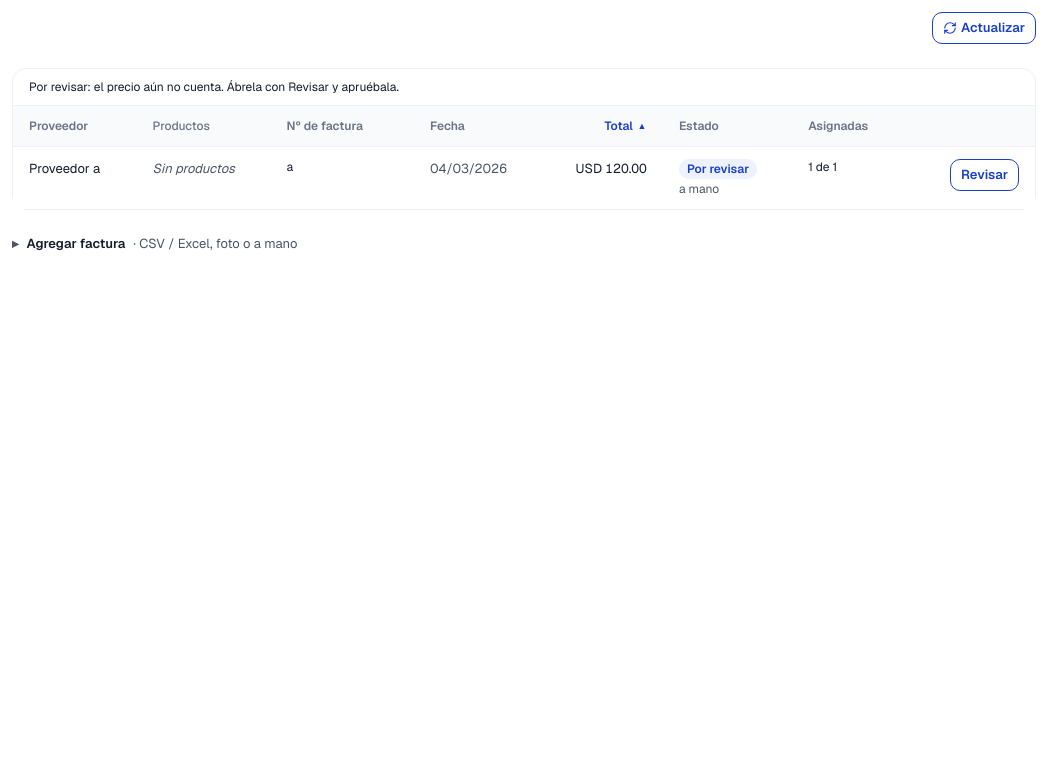
Test: Review panel › a real invoice still says «Publicar factura» and shows its Total
What coordinates should you click on to do the following:
click the button "Revisar"
I would click on:
 (985, 175)
Its box is [950, 159, 1019, 191].
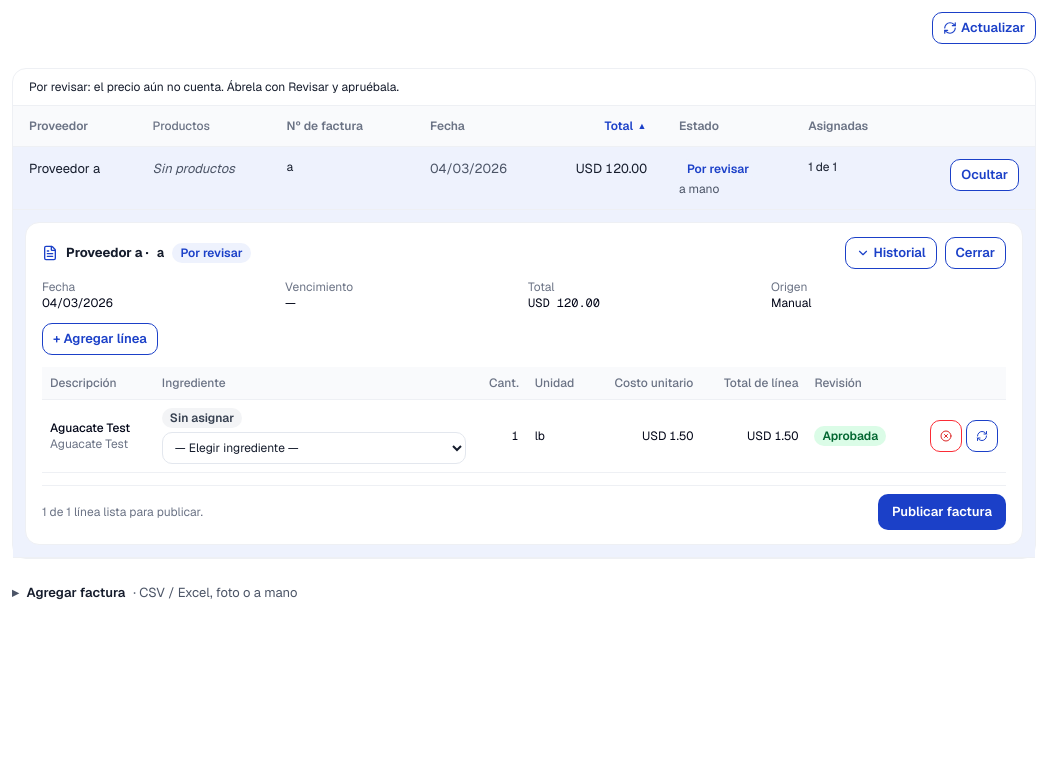
Now the button "Publicar factura" is shown, box [878, 494, 1006, 530]
Now the text "Total" is shown, box [528, 279, 554, 295]
